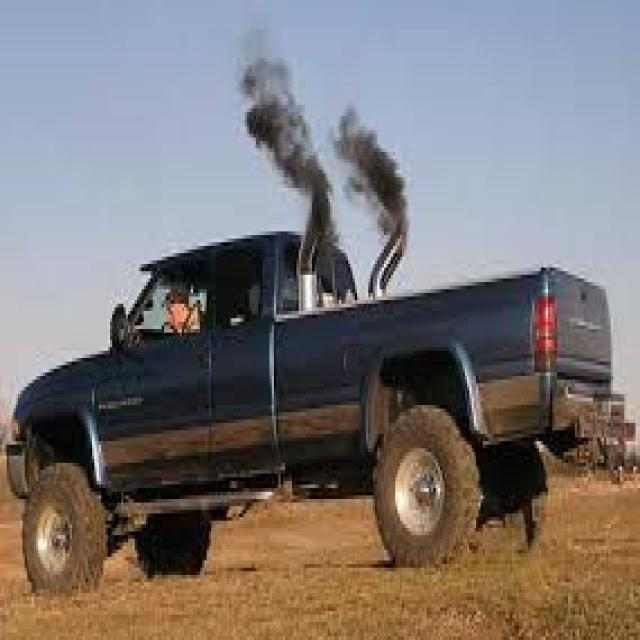Smoke: (261, 68, 422, 238)
